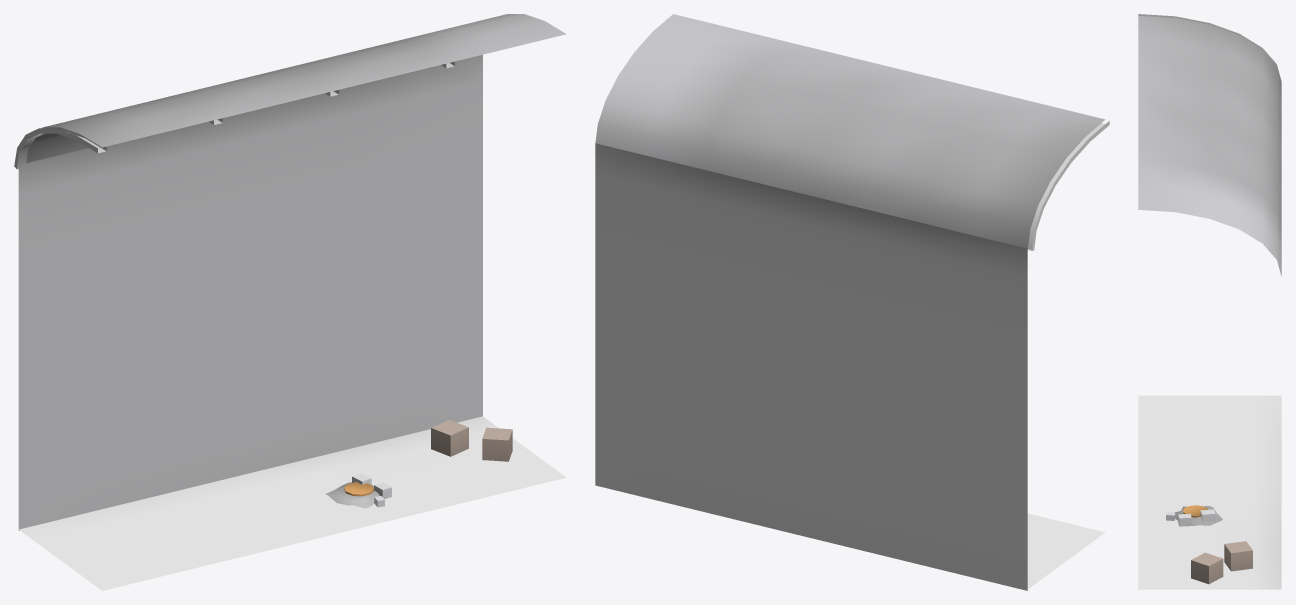
Rendered from crypt_07_af.glb.
3 renders of one model, left to right at view 1: azimuth 30°, elevation 25°; view 2: azimuth 150°, elevation 25°; view 3: azimuth 270°, elevation 25°, orthographic. The views are drawn at different scales.
Visible parts, largest first — view 1: crypt_07_af; view 2: crypt_07_af; view 3: crypt_07_af.
Part boxes in pixels (bbox=[...]): crypt_07_af: bbox=[14, 14, 566, 590]; crypt_07_af: bbox=[595, 14, 1109, 590]; crypt_07_af: bbox=[1138, 14, 1281, 589].
Bounding box in the file's own units: 16.15 × 14.65 × 5.
